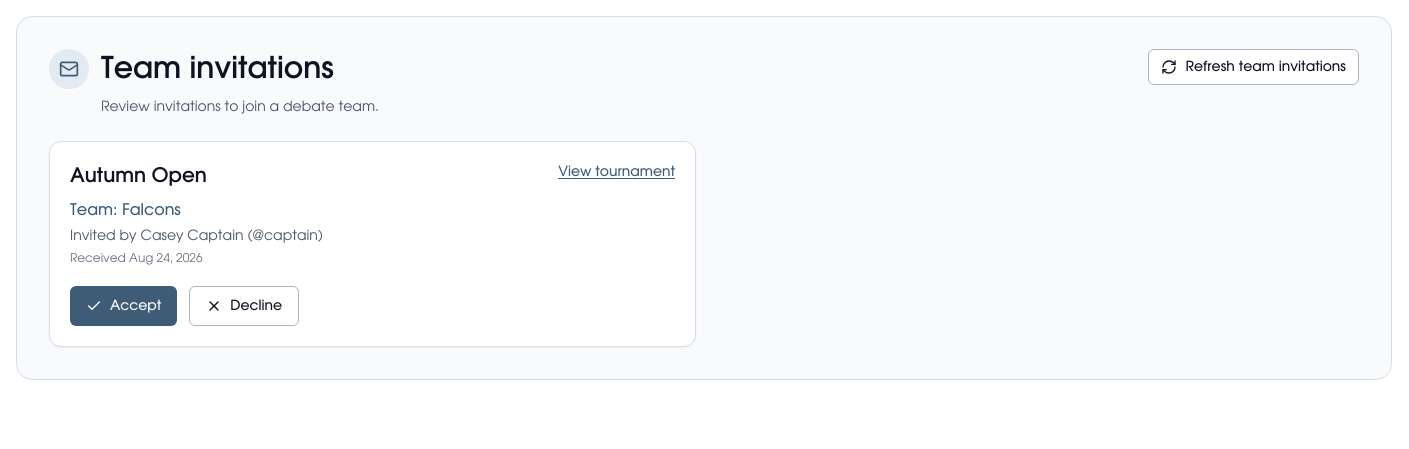
Test case: ParticipantInvitationInbox › keeps actions available after a retryable action failure
Click the button with aria-label "Decline invitation to Falcons".
click(244, 306)  # box x1=189 y1=286 x2=299 y2=326
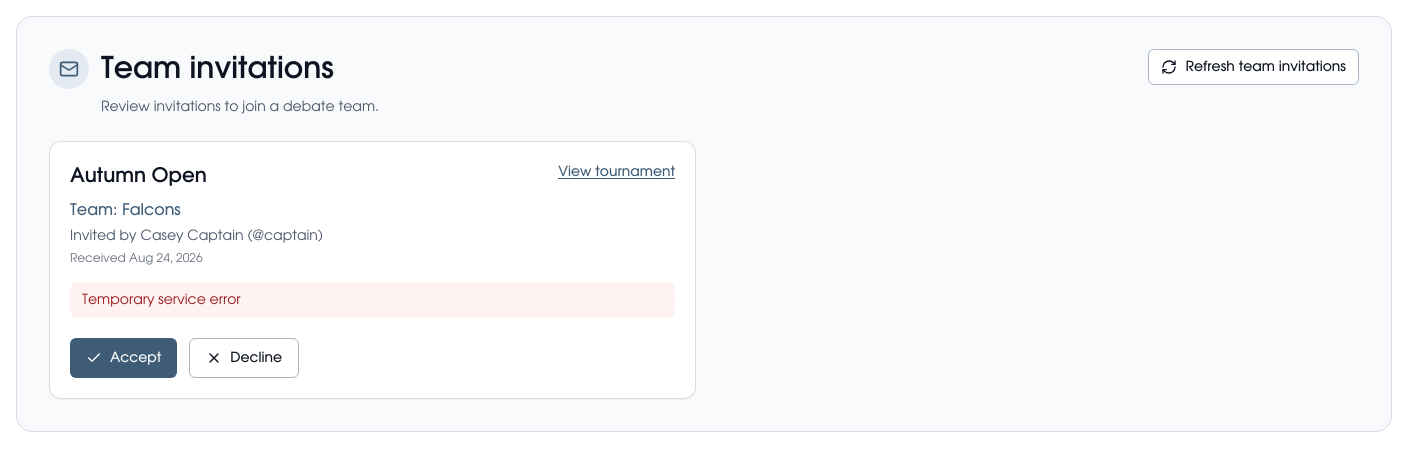
Expected: the button with aria-label "Accept invitation to Falcons" is enabled, x1=70 y1=338 x2=177 y2=378
Now the text "Temporary service error" is shown, box x1=70 y1=282 x2=675 y2=318
